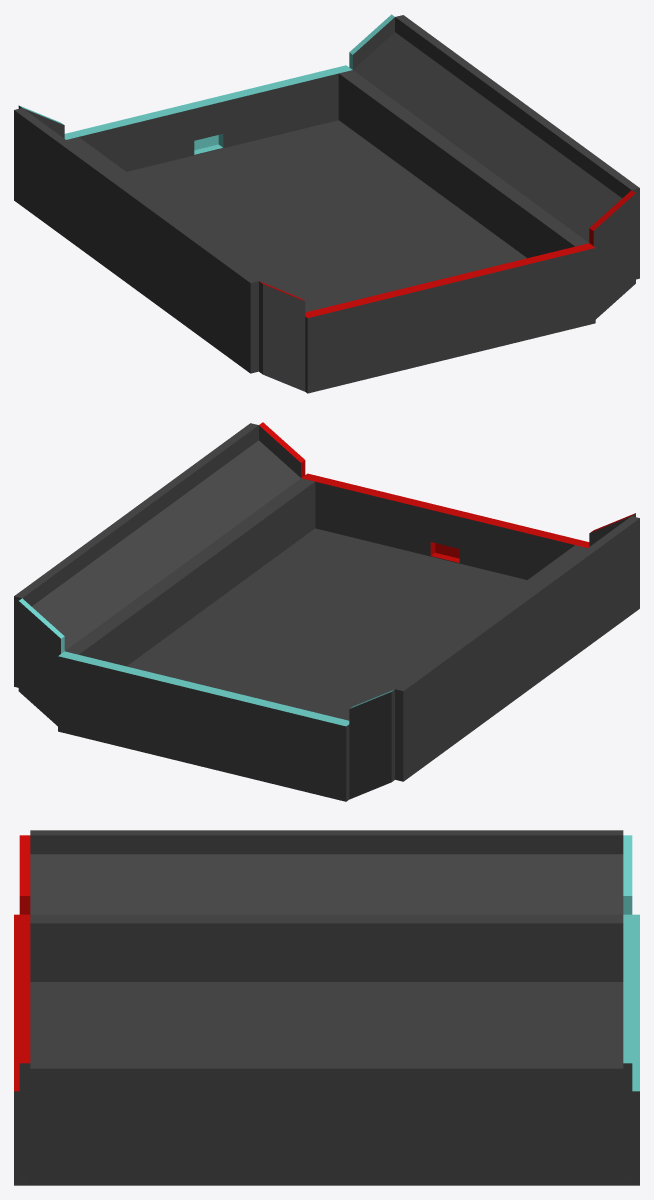
The model's file is Stadion.fbx.
3 views of the same model, one above another, from view 1: azimuth 30°, elevation 25°; view 2: azimuth 150°, elevation 25°; view 3: azimuth 270°, elevation 25° (orthographic). The views are drawn at different scales.
Parts seen in each view (by area): view 1: Cube; view 2: Cube; view 3: Cube.
Boxes of the visible parts, <box> form: Cube: <box>14,14,639,393</box>; Cube: <box>14,422,639,801</box>; Cube: <box>14,830,639,1185</box>.
Size of the model in its own units: 21.62 by 6.27 by 24.
